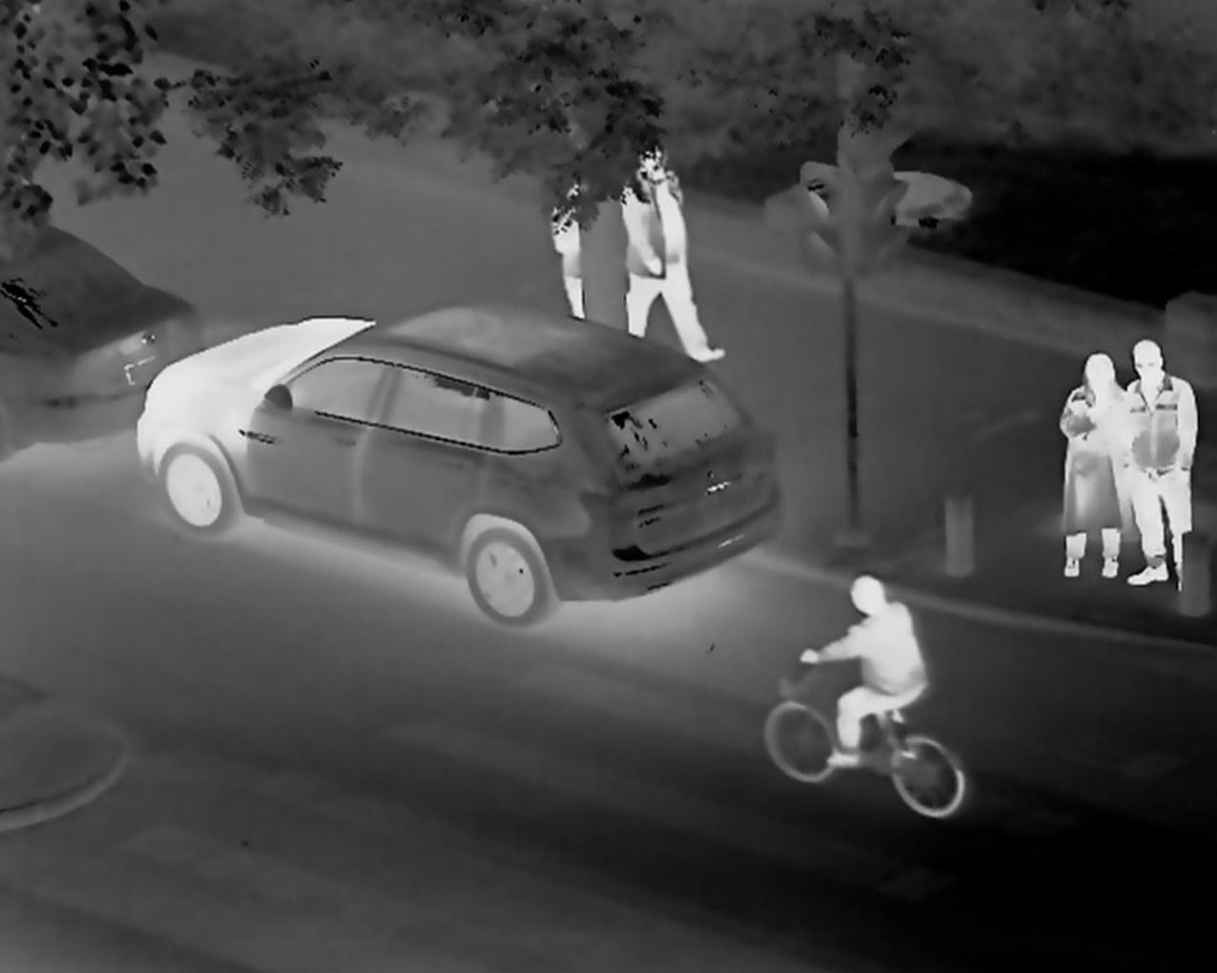person: (802, 574, 923, 760), (627, 140, 719, 369), (1131, 348, 1211, 605), (1055, 348, 1121, 589), (546, 180, 584, 313)
